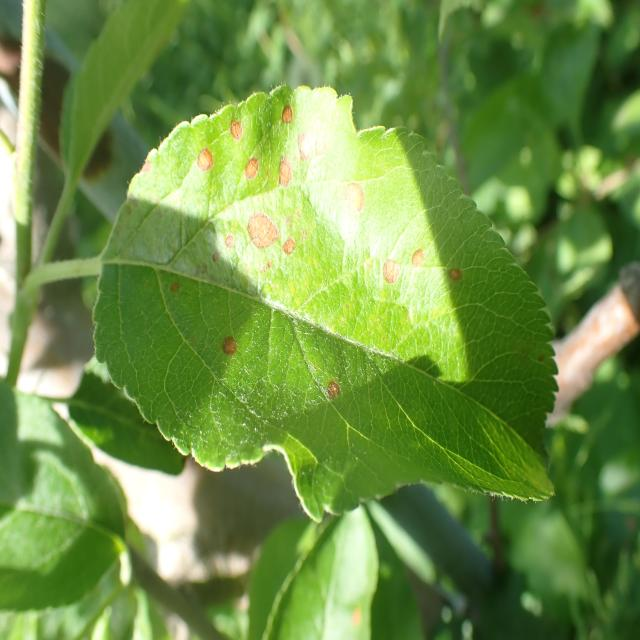frog-eye-leaf-spot: (91, 81, 561, 515)
